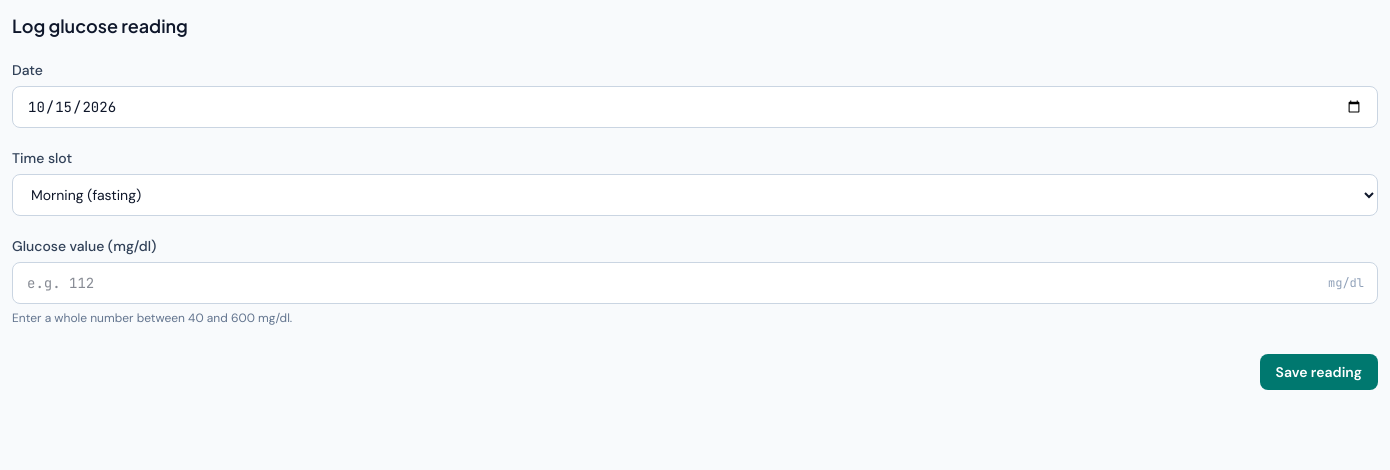
Test: ReadingForm › shows error when glucose value is empty
Click the button "Save reading" at {"x": 1319, "y": 372}, box [1260, 354, 1378, 390]
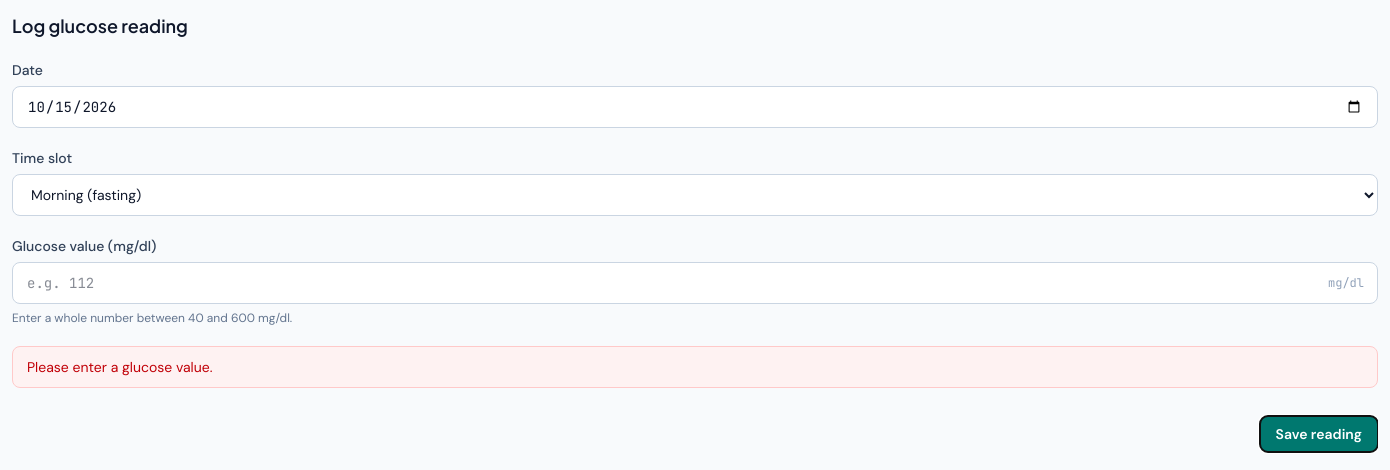
Result: the message reads "Please enter a glucose value." at [27, 358, 212, 376]
